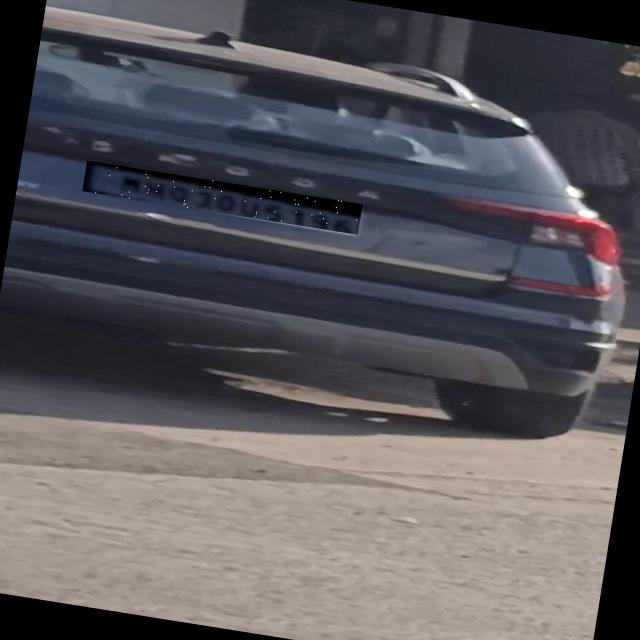Plate: (84, 162, 364, 236)
